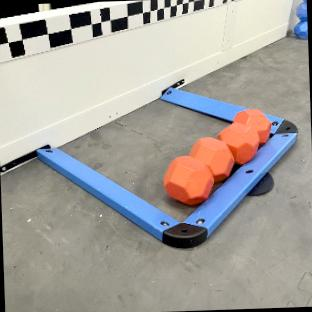V5_BLUE: (294, 0, 307, 38)
V5_RED: (166, 110, 270, 203)
